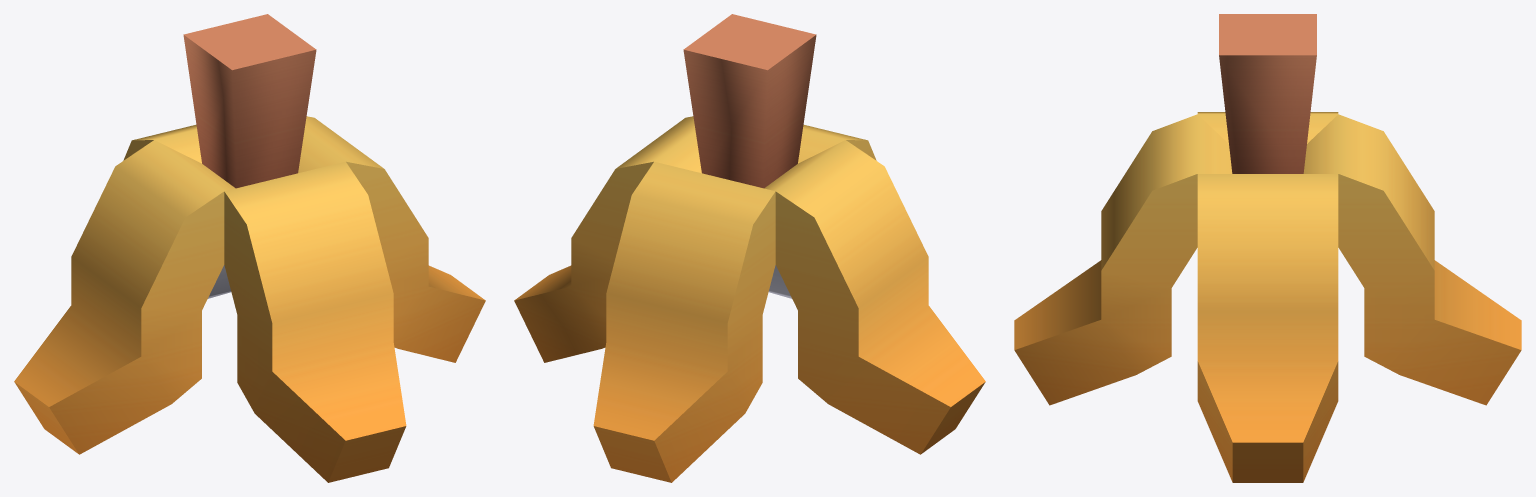
Rendered from banana.glb.
3 views of the same model, side by side, from view 1: azimuth 30°, elevation 25°; view 2: azimuth 150°, elevation 25°; view 3: azimuth 270°, elevation 25° (orthographic).
Visible parts, largest first — view 1: item-banana; view 2: item-banana; view 3: item-banana.
Boxes of the visible parts, <box> form: item-banana: <box>14,14,485,482</box>; item-banana: <box>514,14,985,482</box>; item-banana: <box>1014,14,1521,482</box>.
Bounding box in the file's own units: 0.3166 × 0.2452 × 0.3166.
Materials: 1 (1 with a texture image).
